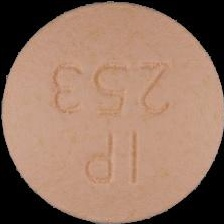0440-8300: (0, 0, 224, 224)
